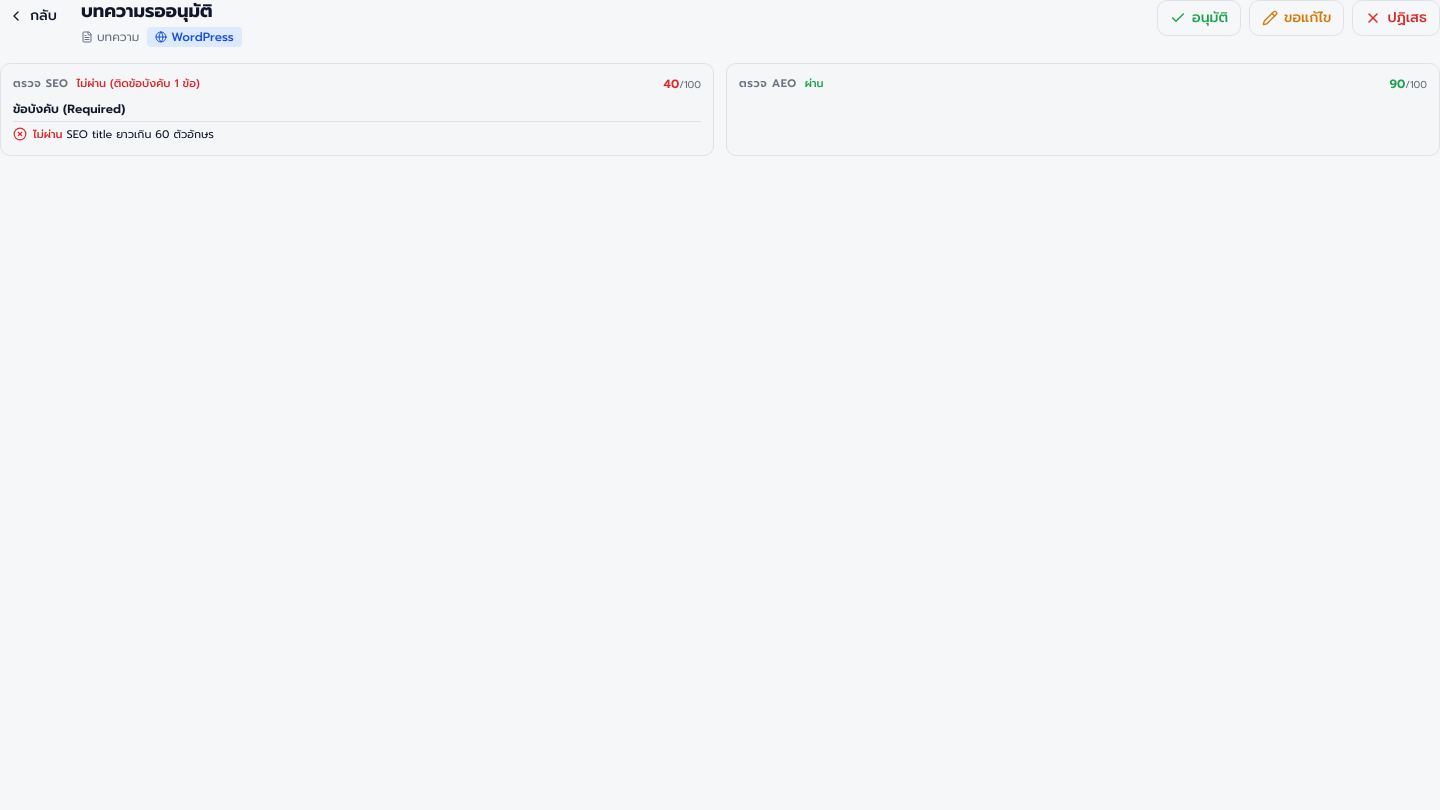
ContentDetailView — SEO/AEO เป็นข้อมูลประกอบการตัดสินใจ ไม่บล็อกการอนุมัติ › กด "อนุมัติ" ได้แม้ Required failed — dialog ไม่มี checklist ซ้ำ และปุ่มยืนยันกดได้เสมอ
Expected: the text "SEO title ยาวเกิน 60 ตัวอักษร" is shown, [66,126,214,142]
Click the button "อนุมัติ": [1199, 18] box [1157,0,1241,36]
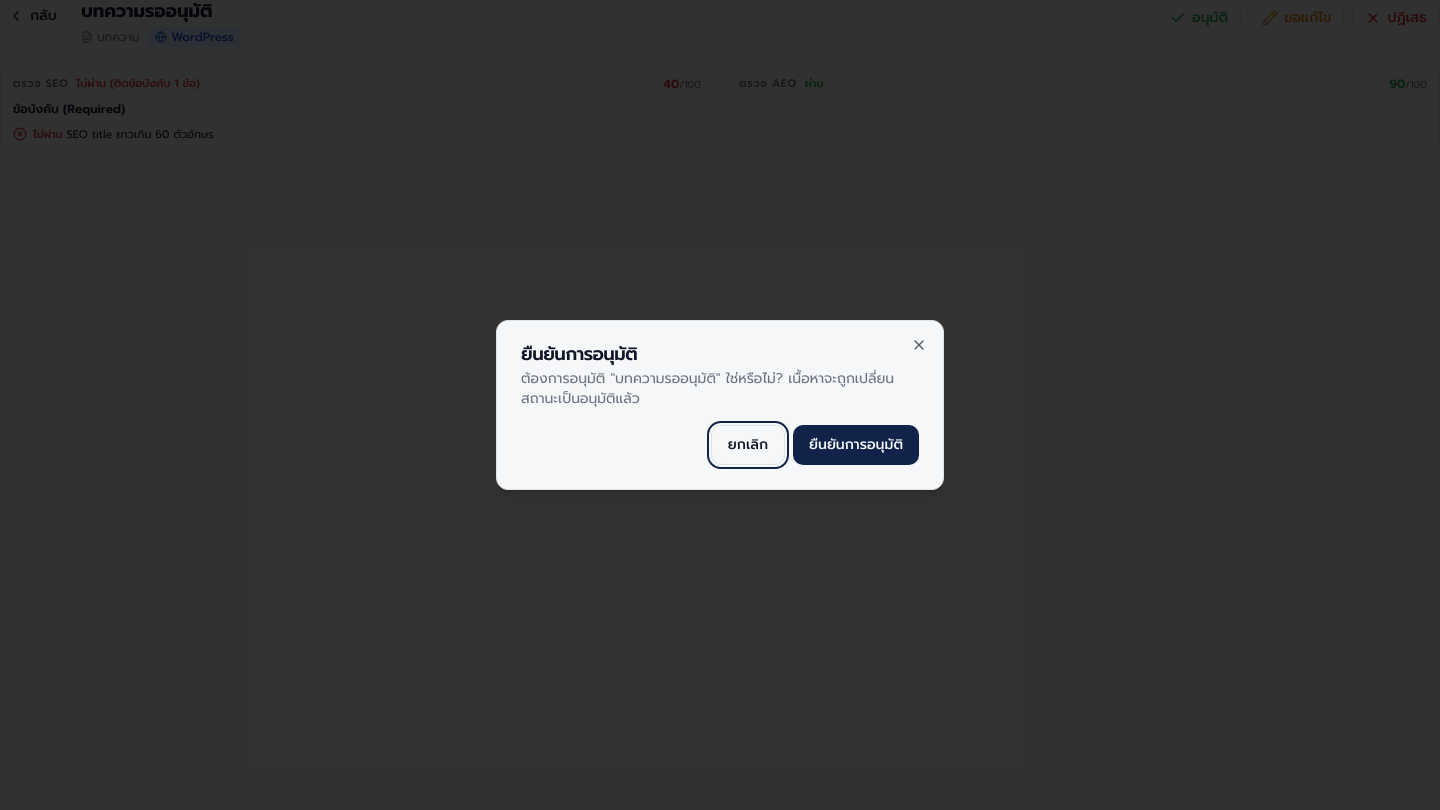
Expected: the text "SEO title ยาวเกิน 60 ตัวอักษร" is shown once, [33,126,214,143]
Now the button "ยืนยันการอนุมัติ" is enabled, box [793,425,919,465]
